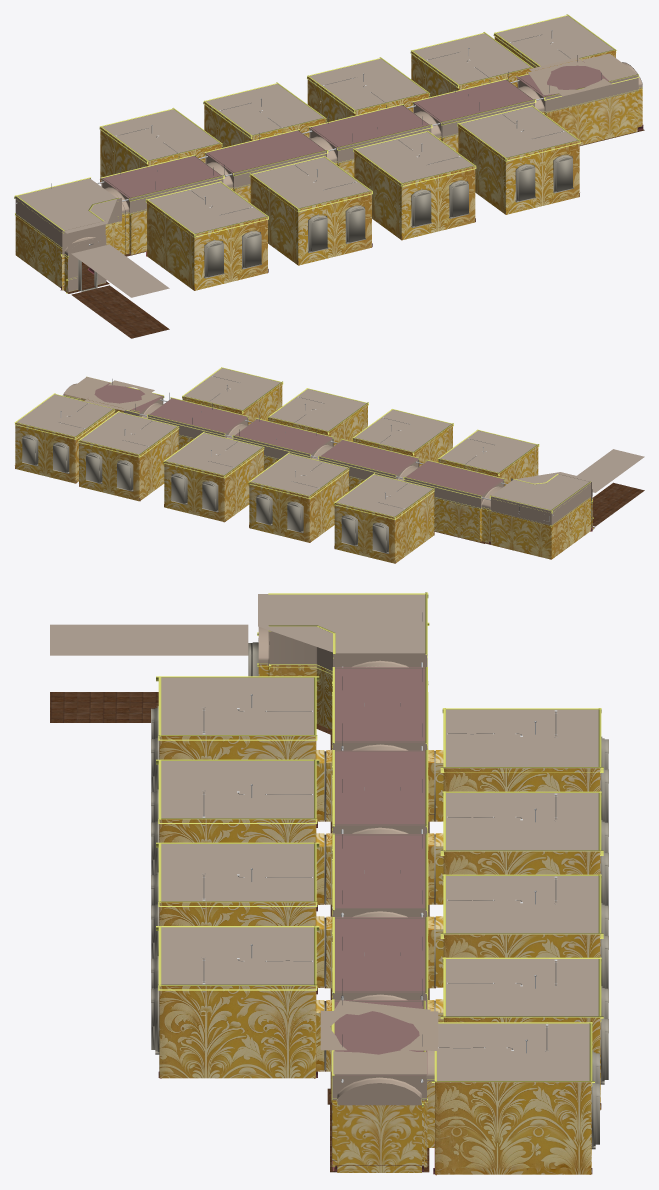
Rendered from sanatorium.fbx.
3 renders of one model, top to bottom at view 1: azimuth 30°, elevation 25°; view 2: azimuth 150°, elevation 25°; view 3: azimuth 270°, elevation 25°, orthographic. The views are drawn at different scales.
Parts seen in each view (by area): view 1: CeilingRooms, Walls, Ceiling, Archs, HandRails, DoorFrames, FloorHall; view 2: Walls, CeilingRooms, Ceiling, Archs, HandRails, DoorFrames, FloorHall, Pipes; view 3: CeilingRooms, Walls, Ceiling, Archs, HandRails, DoorFrames, FloorHall, Pipes.
Boxes of the visible parts, x1,y1,x2,y2 form: CeilingRooms: (18,16,613,297); Walls: (15,34,642,291); Ceiling: (101,61,608,198); Archs: (15,53,642,292); HandRails: (14,14,642,293); DoorFrames: (78,154,573,291); FloorHall: (64,129,644,338); Walls: (15,383,592,563); CeilingRooms: (17,368,644,516); Ceiling: (63,383,504,495); Archs: (62,377,592,525); HandRails: (14,367,593,529); DoorFrames: (22,434,389,553); FloorHall: (434,482,644,556); Pipes: (59,376,519,511); CeilingRooms: (50,594,600,1082); Walls: (159,664,600,1174); Ceiling: (334,667,427,1075); Archs: (258,626,438,1105); HandRails: (156,592,603,1107); DoorFrames: (151,642,608,1149); FloorHall: (50,692,435,1172); Pipes: (203,708,556,1050).
Size of the model in its own units: 5977 by 618 by 2903.
